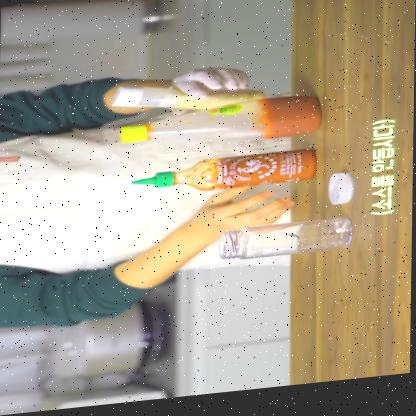streamer: (0, 64, 298, 334)
